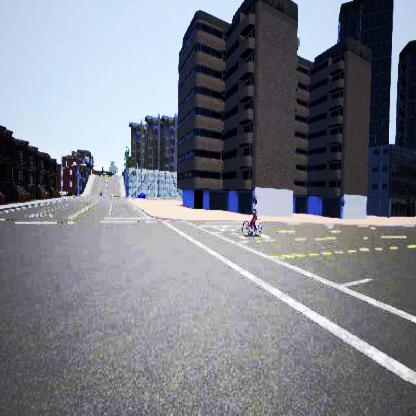bike: (239, 193, 265, 238)
